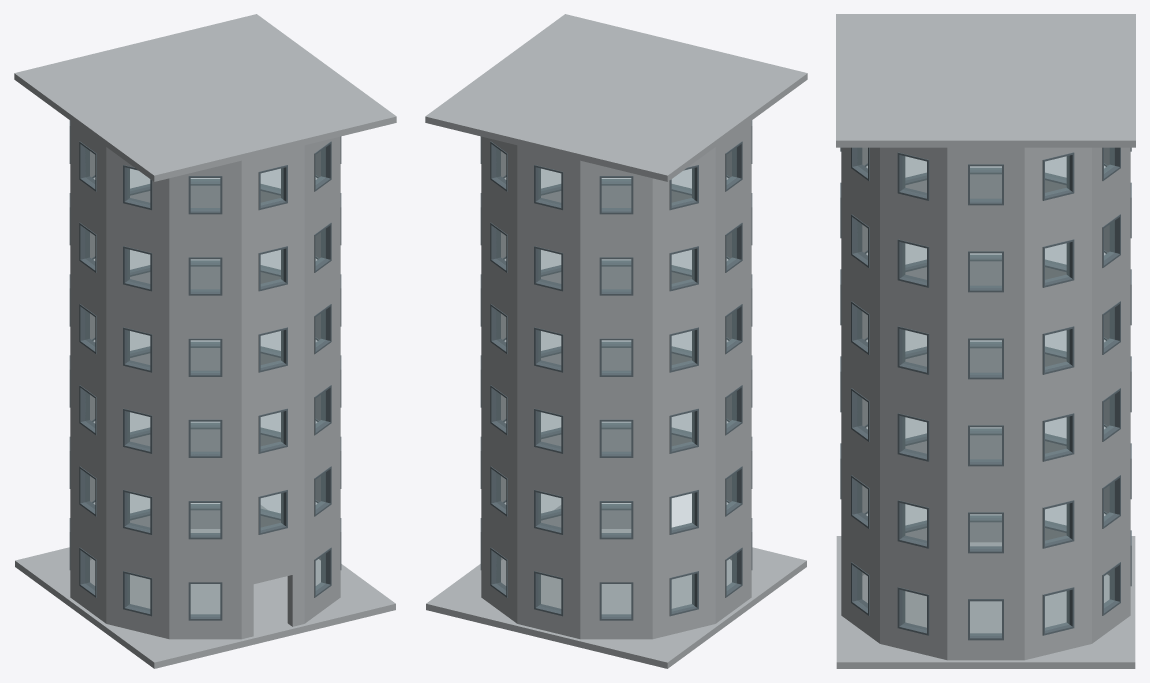
File: tower_6_lod1.glb
3 views of the same model, side by side, from view 1: azimuth 30°, elevation 25°; view 2: azimuth 150°, elevation 25°; view 3: azimuth 270°, elevation 25° (orthographic). The views are drawn at different scales.
Parts seen in each view (by area): view 1: Ceiling baked, Wall_11 baked, Wall_0 baked, Wall_10 baked, Wall_9 baked, Wall_1 baked, Floor baked, Wall_5 baked, Glazing.065 baked, Glazing.068 baked, Glazing.069 baked, Glazing.070 baked (+17 smaller); view 2: Ceiling baked, Wall_7 baked, Wall_6 baked, Wall_8 baked, Wall_9 baked, Wall_5 baked, Floor baked, Wall_1 baked, Glazing.041 baked, Glazing.044 baked, Glazing.045 baked, Glazing.046 baked (+18 smaller); view 3: Ceiling baked, Wall_3 baked, Wall_2 baked, Wall_4 baked, Wall_1 baked, Wall_5 baked, Floor baked, Wall_9 baked, Glazing.017 baked, Glazing.018 baked, Glazing.019 baked, Glazing.020 baked (+18 smaller).
Boxes of the visible parts, x1,y1,x2,y2 form: Ceiling baked: (14,14,396,181); Wall_11 baked: (169,160,241,639); Wall_0 baked: (241,145,304,638); Wall_10 baked: (106,147,169,638); Wall_9 baked: (70,121,106,623); Wall_1 baked: (304,136,340,623); Floor baked: (15,505,395,668); Wall_5 baked: (190,185,220,528); Glazing.065 baked: (191,584,219,616); Glazing.068 baked: (191,340,219,372); Glazing.069 baked: (191,259,219,291); Glazing.070 baked: (191,178,219,210); Ceiling baked: (425,14,807,181); Wall_7 baked: (580,160,652,639); Wall_6 baked: (517,145,580,638); Wall_8 baked: (652,147,715,638); Wall_9 baked: (715,121,751,623); Wall_5 baked: (481,136,517,623); Floor baked: (426,505,806,668); Wall_1 baked: (601,185,631,528); Glazing.041 baked: (602,584,630,616); Glazing.044 baked: (602,340,630,372); Glazing.045 baked: (602,259,630,291); Glazing.046 baked: (602,178,630,210); Ceiling baked: (836,14,1135,147); Wall_3 baked: (947,147,1024,660); Wall_2 baked: (880,147,947,659); Wall_4 baked: (1024,147,1091,659); Wall_1 baked: (841,147,879,643); Wall_5 baked: (1092,147,1130,643); Floor baked: (836,536,1135,668); Wall_9 baked: (970,174,1001,542); Glazing.017 baked: (970,601,1001,635); Glazing.018 baked: (970,514,1001,548); Glazing.019 baked: (970,427,1001,461); Glazing.020 baked: (970,340,1001,374).
Size of the model in its own units: 10 by 19.45 by 10.
